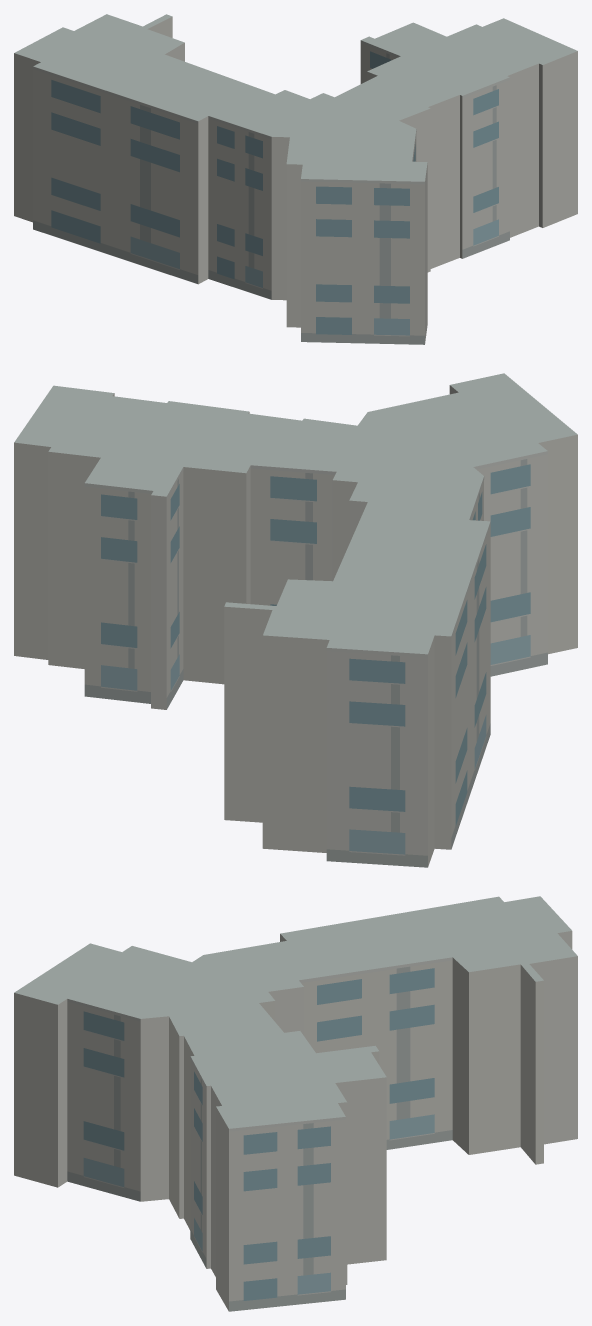
Rendered from residential-8ef9274f-9bdb-4ac6-9cb9-66162a1cf776.glb.
The picture shows the model from 3 angles, top to bottom: view 1: azimuth 30°, elevation 25°; view 2: azimuth 150°, elevation 25°; view 3: azimuth 270°, elevation 25°; orthographic projection. The views are drawn at different scales.
Parts seen in each view (by area): view 1: residential-8ef9274f-9bdb-4ac6-9cb9-66162a1cf776.tmp; view 2: residential-8ef9274f-9bdb-4ac6-9cb9-66162a1cf776.tmp; view 3: residential-8ef9274f-9bdb-4ac6-9cb9-66162a1cf776.tmp.
Boxes of the visible parts, x1,y1,x2,y2 form: residential-8ef9274f-9bdb-4ac6-9cb9-66162a1cf776.tmp: (14, 14, 577, 344); residential-8ef9274f-9bdb-4ac6-9cb9-66162a1cf776.tmp: (14, 373, 577, 867); residential-8ef9274f-9bdb-4ac6-9cb9-66162a1cf776.tmp: (14, 896, 577, 1311).
Bounding box in the file's own units: 41.62 × 15.25 × 42.63.
